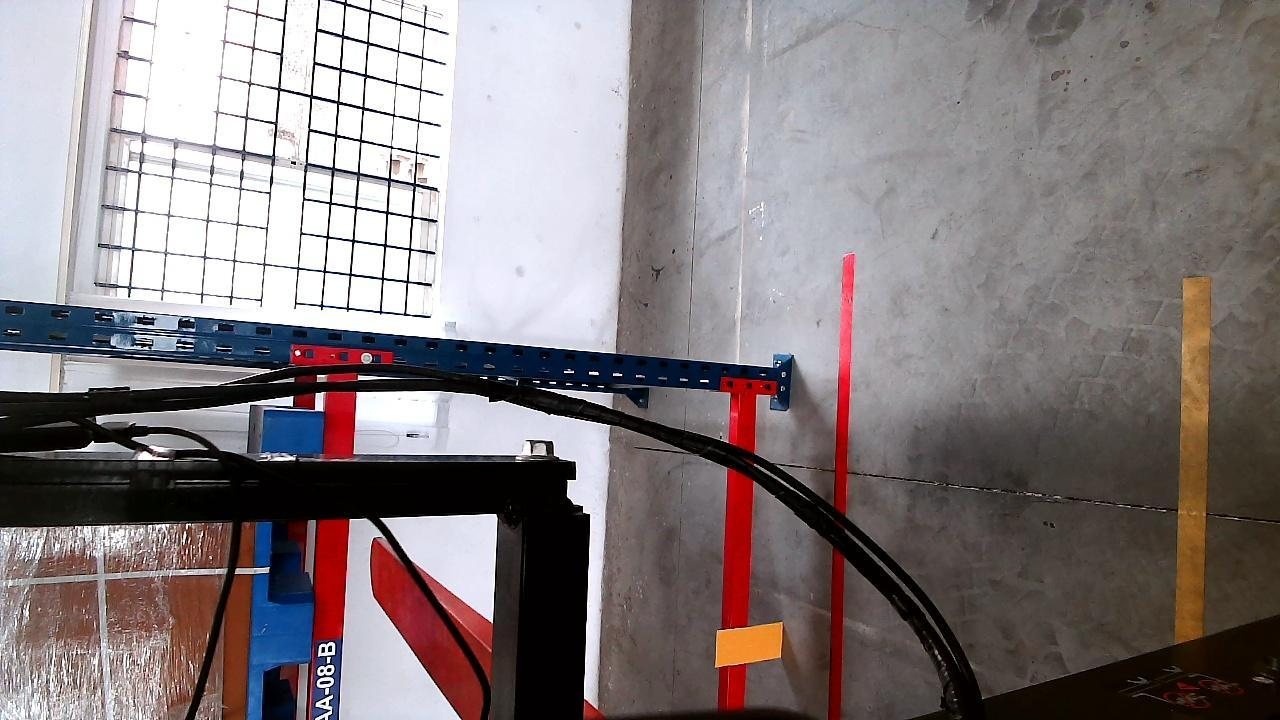red_line: (827, 248, 855, 720)
yellow_line: (1176, 276, 1212, 638)
